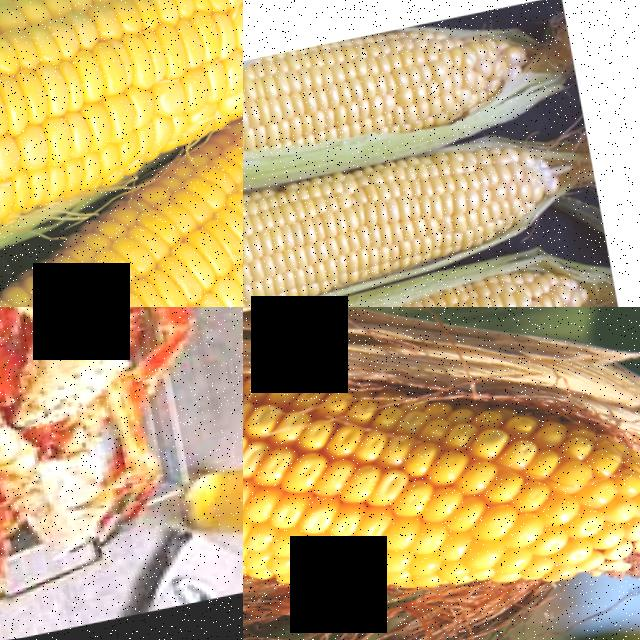corn: (243, 307, 640, 640), (243, 138, 565, 307), (0, 0, 243, 195), (243, 17, 531, 172), (117, 110, 243, 307), (0, 2, 55, 300), (0, 244, 243, 307), (243, 268, 593, 307)
crab: (0, 307, 145, 578)
